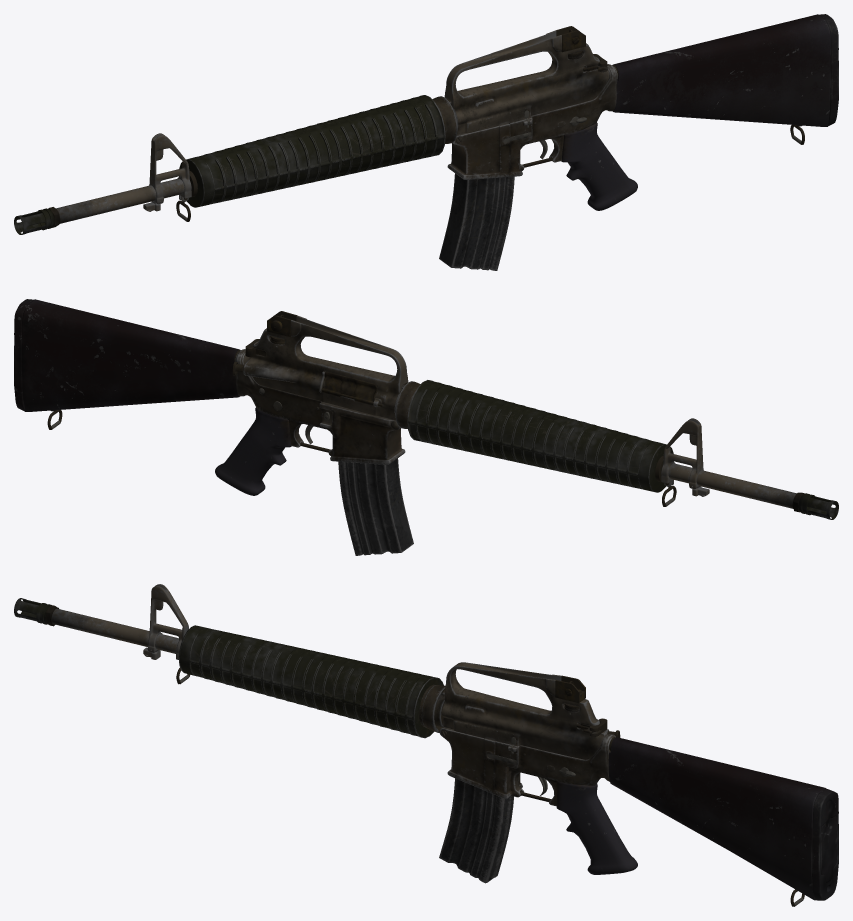
Rendered from m16_reload.glb.
3 renders of one model, top to bottom at view 1: azimuth 30°, elevation 25°; view 2: azimuth 150°, elevation 25°; view 3: azimuth 330°, elevation 25°, orthographic.
Visible parts, largest first — view 1: Object_3, Object_6, Object_2, bm_magazine_m16, Object_5, Object_4, Object_7, Object_8; view 2: Object_3, Object_6, Object_2, bm_magazine_m16, Object_5, Object_7, Object_4, Object_8; view 3: Object_3, Object_6, Object_2, bm_magazine_m16, Object_7, Object_5, Object_4, Object_8.
Part boxes in pixels (x1,y1,x2,y2): Object_3: (48,14,830,227); Object_6: (444,30,609,134); Object_2: (447,64,617,179); bm_magazine_m16: (439,173,514,270); Object_5: (143,125,804,221); Object_4: (178,26,607,221); Object_7: (456,14,838,170); Object_8: (14,208,54,234); Object_3: (22,299,805,512); Object_6: (232,315,408,420); Object_2: (235,349,405,464); bm_magazine_m16: (338,458,413,555); Object_5: (47,410,709,506); Object_7: (14,299,399,455); Object_4: (245,311,674,506); Object_8: (798,493,838,519); Object_3: (45,605,825,900); Object_6: (442,662,620,759); Object_2: (439,727,615,806); bm_magazine_m16: (439,778,513,883); Object_7: (441,681,838,900); Object_5: (143,584,804,906); Object_4: (180,675,607,795); Object_8: (14,598,50,624).
Bounding box in the file's own units: 23.62 × 6.07 × 1.58.
Materials: 1 (1 with a texture image).
